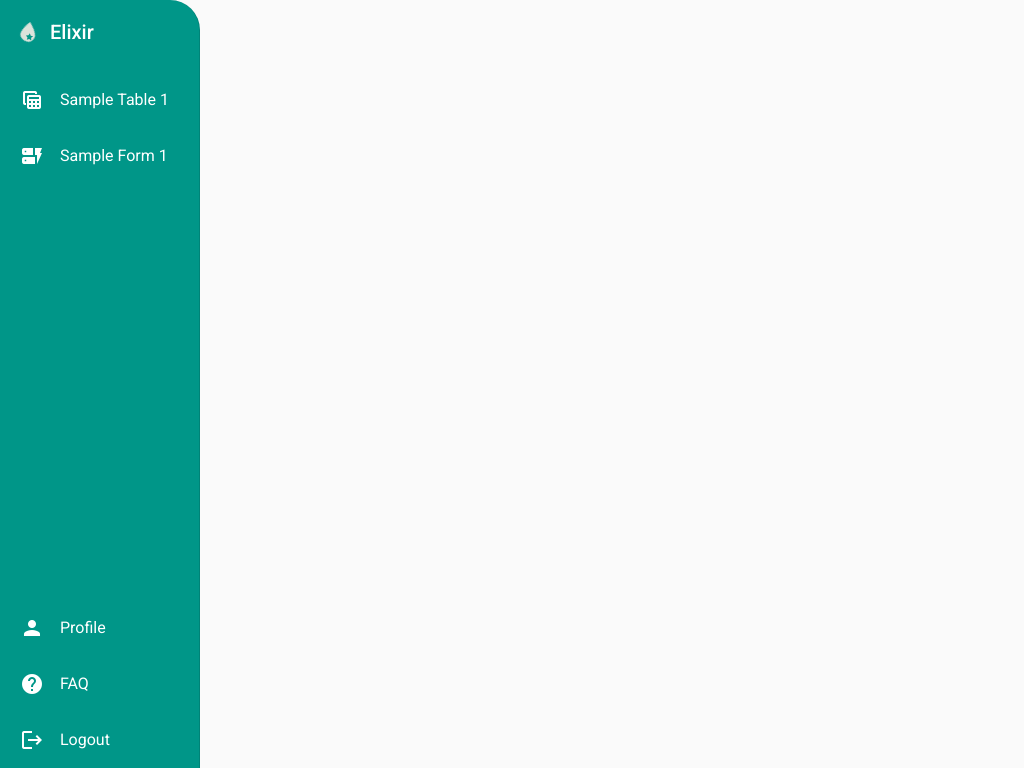
Test case: Frame Test › Loads the sample table when selected
Click the link "Sample Table 1". click: point(95, 100)
box: [20,88,169,112]
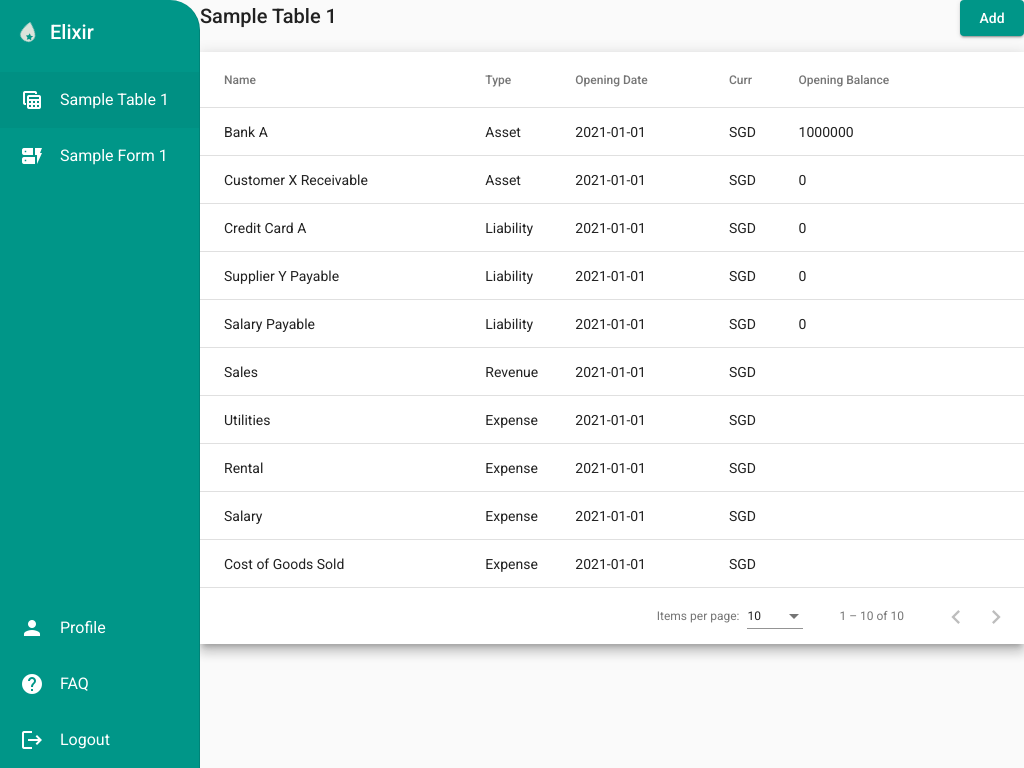
Check: the element that starts with "Sample Table 1" is shown
